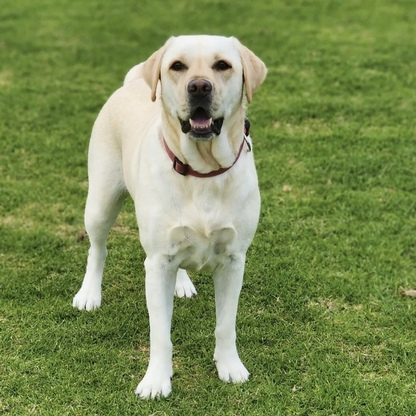labrado: (69, 27, 278, 404)
